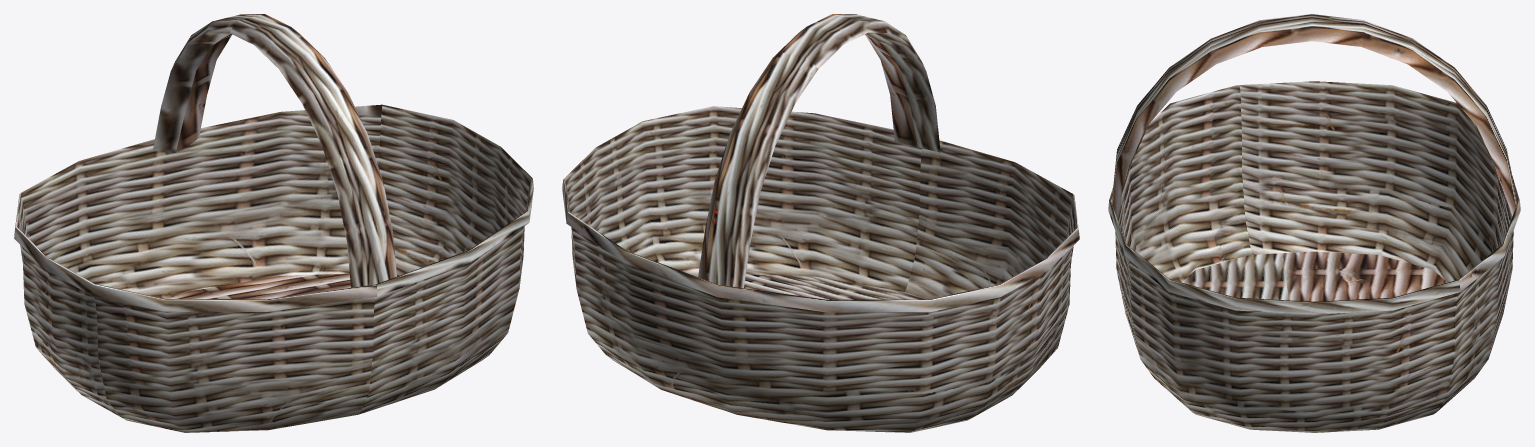
Rendered from Mandje.fbx.
3 views of the same model, side by side, from view 1: azimuth 30°, elevation 25°; view 2: azimuth 150°, elevation 25°; view 3: azimuth 270°, elevation 25° (orthographic).
Visible parts, largest first — view 1: Mandje, pTorus1; view 2: Mandje, pTorus1; view 3: Mandje, pTorus1.
Part boxes in pixels (x1=…): Mandje: x1=14, y1=104, x2=533, y2=432; pTorus1: x1=153, y1=14, x2=396, y2=287; Mandje: x1=562, y1=106, x2=1079, y2=432; pTorus1: x1=698, y1=14, x2=940, y2=288; Mandje: x1=1108, y1=81, x2=1520, y2=432; pTorus1: x1=1112, y1=14, x2=1516, y2=218.
Size of the model in its own units: 3.22 by 2.17 by 2.52.
Materials: 1 (1 with a texture image).
